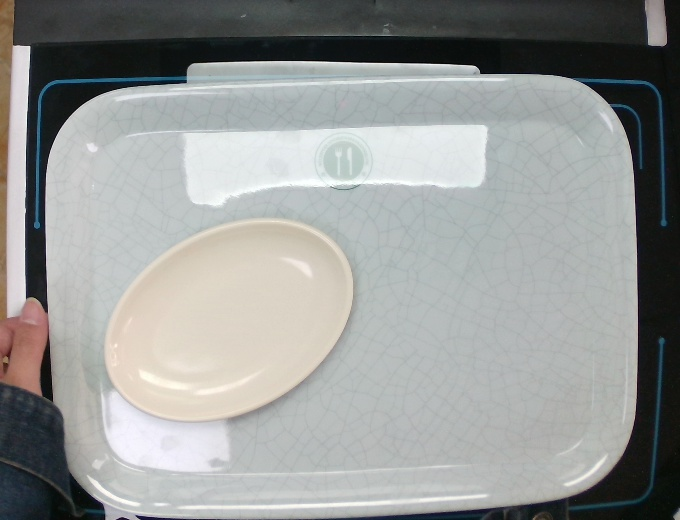JYsf-Tuo_Yuan_Wan: (103, 212, 362, 429)
